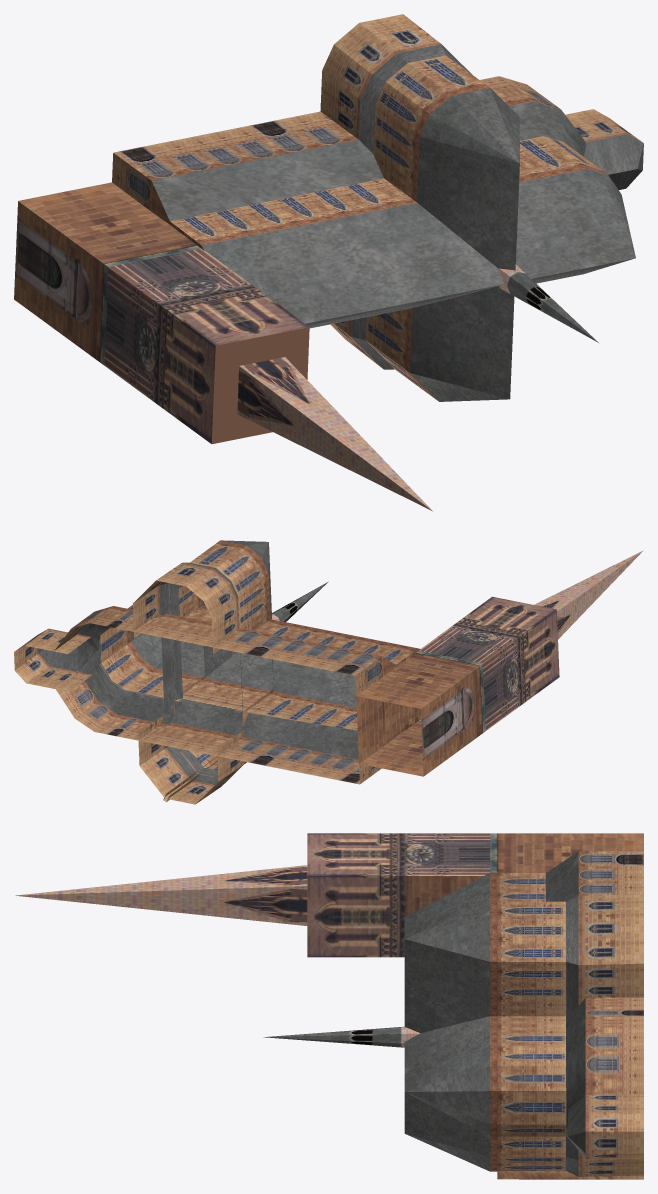
File: DEU_BL0404_KARLSRUHE_S_BERNHARDUS_KIRCHE_L.OBJ
The picture shows the model from 3 angles, top to bottom: view 1: azimuth 30°, elevation 25°; view 2: azimuth 150°, elevation 25°; view 3: azimuth 270°, elevation 25°; orthographic projection. The views are drawn at different scales.
Parts seen in each view (by area): view 1: DEU_BL0404_KARLSRUHE_S_BERNHARDUS_KIRCHE_L:S_BERNHARDUS_KIRCHE_L; view 2: DEU_BL0404_KARLSRUHE_S_BERNHARDUS_KIRCHE_L:S_BERNHARDUS_KIRCHE_L; view 3: DEU_BL0404_KARLSRUHE_S_BERNHARDUS_KIRCHE_L:S_BERNHARDUS_KIRCHE_L.
Boxes of the visible parts, x1,y1,x2,y2 form: DEU_BL0404_KARLSRUHE_S_BERNHARDUS_KIRCHE_L:S_BERNHARDUS_KIRCHE_L: [14, 14, 643, 511]; DEU_BL0404_KARLSRUHE_S_BERNHARDUS_KIRCHE_L:S_BERNHARDUS_KIRCHE_L: [14, 540, 643, 804]; DEU_BL0404_KARLSRUHE_S_BERNHARDUS_KIRCHE_L:S_BERNHARDUS_KIRCHE_L: [15, 833, 643, 1179].
Bounding box in the file's own units: 86.44 × 44.48 × 93.
Materials: 1 (1 with a texture image).
